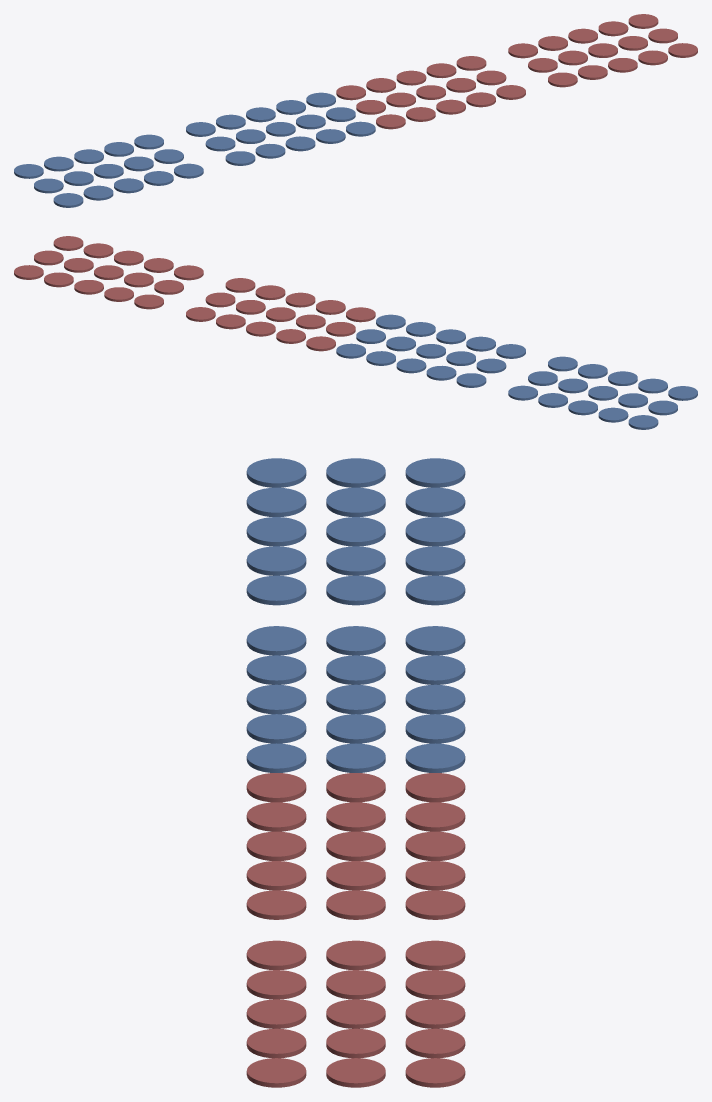
File: Team_Positioning.fbx
3 views of the same model, one above another, from view 1: azimuth 30°, elevation 25°; view 2: azimuth 150°, elevation 25°; view 3: azimuth 270°, elevation 25° (orthographic). The views are drawn at different scales.
Parts seen in each view (by area): view 1: Red_Setup_4_C, Blue_Setup_4_A, Red_Bridge_5_C, Red_Setup_5_C, Blue_Bridge_5_A, Blue_Setup_5_A, Red_Bridge_2_B, Red_Bridge_5_B, Blue_Bridge_2_B, Blue_Bridge_5_B, Red_Bridge_1_A, Red_Bridge_3_C (+48 smaller); view 2: Red_Setup_4_A, Blue_Setup_4_C, Red_Bridge_5_A, Red_Setup_5_A, Blue_Bridge_5_C, Blue_Setup_5_C, Red_Bridge_2_B, Red_Bridge_5_B, Blue_Bridge_2_B, Blue_Bridge_5_B, Red_Bridge_1_C, Red_Bridge_3_A (+48 smaller); view 3: Red_Bridge_2_A, Red_Bridge_2_C, Red_Bridge_4_A, Red_Bridge_4_C, Red_Setup_5_A, Red_Setup_5_C, Blue_Bridge_2_A, Blue_Bridge_2_C, Blue_Bridge_4_A, Blue_Bridge_4_C, Blue_Setup_5_A, Blue_Setup_5_C (+48 smaller).
Part boxes in pixels (left/top/right/bottom): Red_Setup_4_C: left=598, top=21, right=628, bottom=36; Blue_Setup_4_A: left=83, top=185, right=113, bottom=200; Red_Bridge_5_C: left=456, top=56, right=486, bottom=70; Red_Setup_5_C: left=628, top=14, right=658, bottom=28; Blue_Bridge_5_A: left=225, top=151, right=255, bottom=165; Blue_Setup_5_A: left=53, top=193, right=83, bottom=207; Red_Bridge_2_B: left=386, top=92, right=415, bottom=107; Red_Bridge_5_B: left=476, top=70, right=506, bottom=85; Blue_Bridge_2_B: left=296, top=114, right=325, bottom=129; Blue_Bridge_5_B: left=205, top=136, right=235, bottom=151; Red_Bridge_1_A: left=376, top=114, right=405, bottom=129; Red_Bridge_3_C: left=396, top=70, right=426, bottom=85; Red_Setup_4_A: left=83, top=243, right=113, bottom=258; Blue_Setup_4_C: left=598, top=407, right=628, bottom=422; Red_Bridge_5_A: left=225, top=278, right=255, bottom=292; Red_Setup_5_A: left=53, top=236, right=83, bottom=250; Blue_Bridge_5_C: left=456, top=373, right=486, bottom=387; Blue_Setup_5_C: left=628, top=415, right=658, bottom=429; Red_Bridge_2_B: left=296, top=314, right=325, bottom=329; Red_Bridge_5_B: left=205, top=292, right=235, bottom=307; Blue_Bridge_2_B: left=386, top=336, right=415, bottom=351; Blue_Bridge_5_B: left=476, top=358, right=506, bottom=373; Red_Bridge_1_C: left=306, top=336, right=335, bottom=351; Red_Bridge_3_A: left=285, top=292, right=315, bottom=307; Red_Bridge_2_A: left=246, top=802, right=306, bottom=831; Red_Bridge_2_C: left=405, top=802, right=465, bottom=831; Red_Bridge_4_A: left=246, top=861, right=306, bottom=890; Red_Bridge_4_C: left=405, top=861, right=465, bottom=890; Red_Setup_5_A: left=246, top=1058, right=306, bottom=1087; Red_Setup_5_C: left=405, top=1058, right=465, bottom=1087; Blue_Bridge_2_A: left=246, top=714, right=306, bottom=743; Blue_Bridge_2_C: left=405, top=714, right=465, bottom=743; Blue_Bridge_4_A: left=246, top=655, right=306, bottom=684; Blue_Bridge_4_C: left=405, top=655, right=465, bottom=684; Blue_Setup_5_A: left=246, top=458, right=306, bottom=487; Blue_Setup_5_C: left=405, top=458, right=465, bottom=487.
Size of the model in its own units: 149 by 0.5 by 22.
